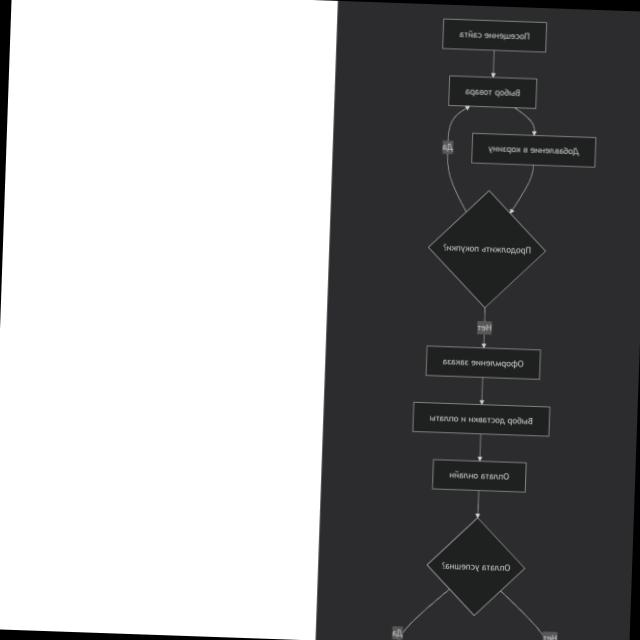arrow: (443, 105, 472, 211), (508, 164, 535, 215), (513, 107, 539, 135), (481, 306, 487, 347), (474, 490, 482, 519), (476, 434, 484, 461), (490, 51, 497, 78), (478, 377, 485, 404)
diamond: (424, 516, 527, 618)
rectangle: (412, 401, 550, 436), (470, 133, 596, 168), (425, 345, 541, 380), (441, 18, 547, 53), (432, 459, 526, 493), (447, 75, 537, 109)
text_region: (441, 143, 453, 153), (392, 629, 403, 639), (542, 634, 556, 640)
